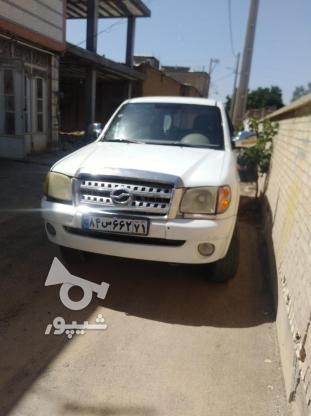car: (80, 214, 150, 235)
